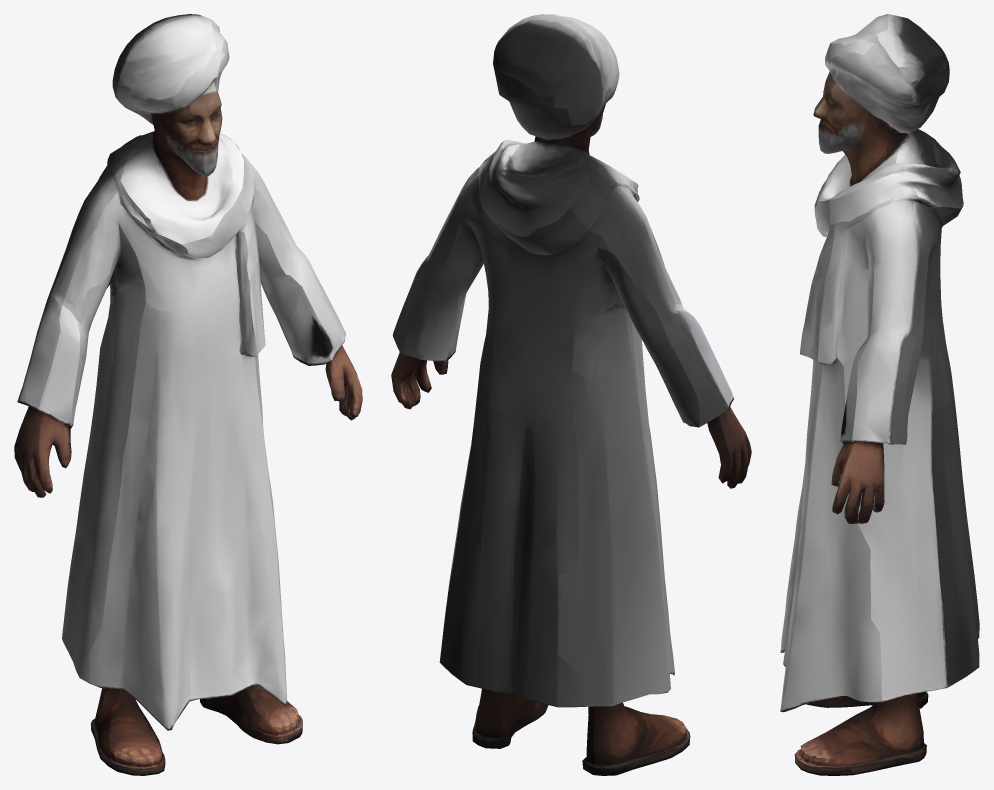
Rendered from Oldman.glb.
3 renders of one model, left to right at view 1: azimuth 30°, elevation 25°; view 2: azimuth 150°, elevation 25°; view 3: azimuth 270°, elevation 25°, orthographic. The views are drawn at different scales.
Visible parts, largest first — view 1: world; view 2: world; view 3: world.
Part boxes in pixels (x1,y1,x2,y2): world: (14, 14, 362, 775); world: (391, 14, 751, 775); world: (780, 14, 979, 775).
Bounding box in the file's own units: 0.4946 × 1 × 0.2543.
1 material, 1 textured.
